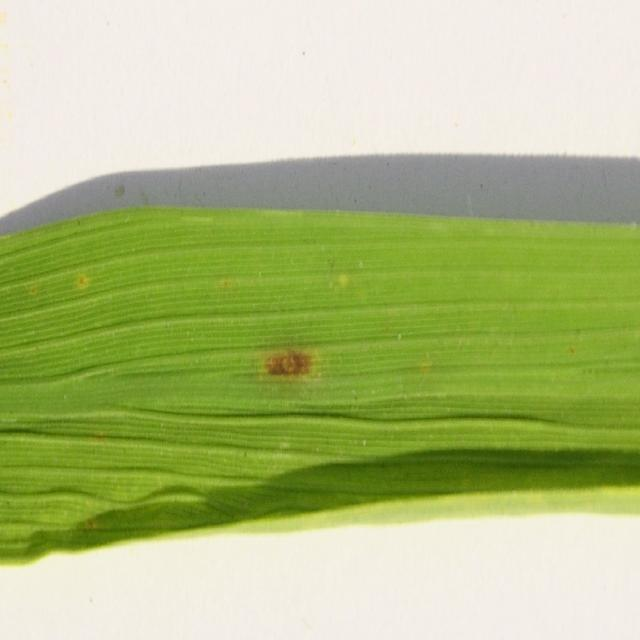Unhealthy: (262, 345, 317, 380), (78, 274, 89, 290), (30, 283, 37, 298), (223, 280, 229, 291), (89, 517, 95, 526), (570, 343, 575, 353)
